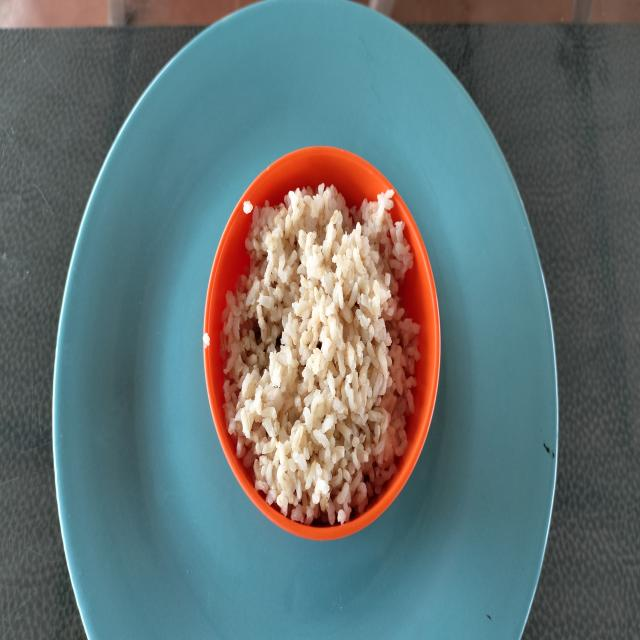brown-rice: (221, 184, 419, 525)
